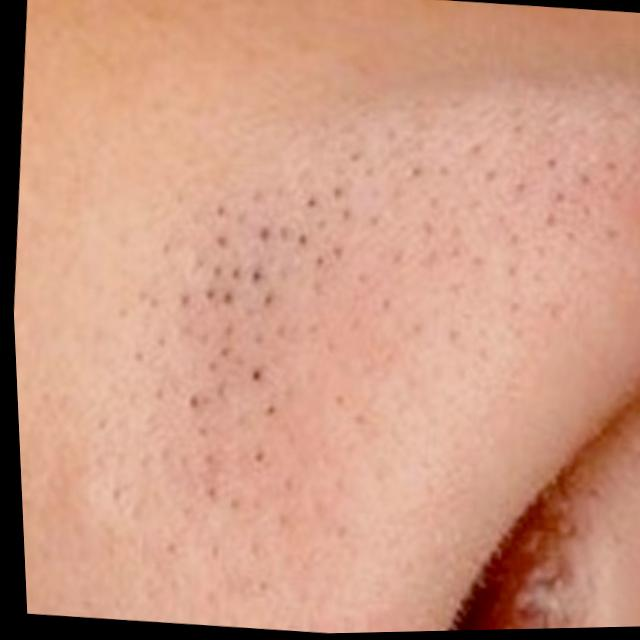blackhead: (128, 79, 636, 541)
